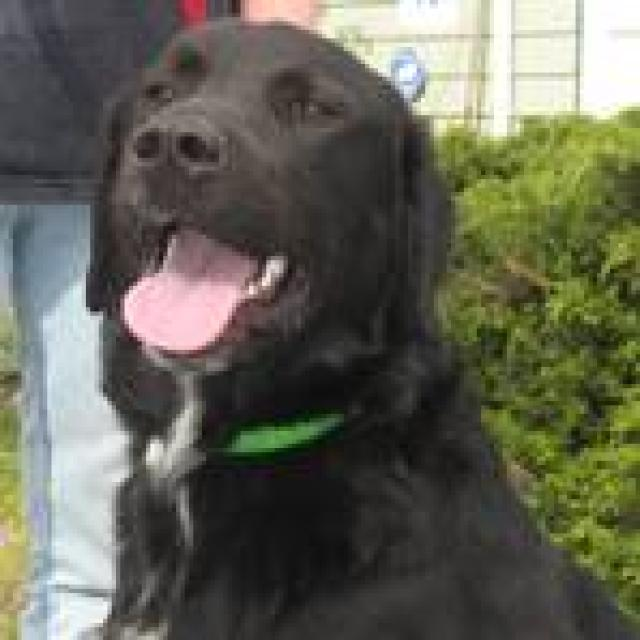dog: (43, 13, 636, 636)
